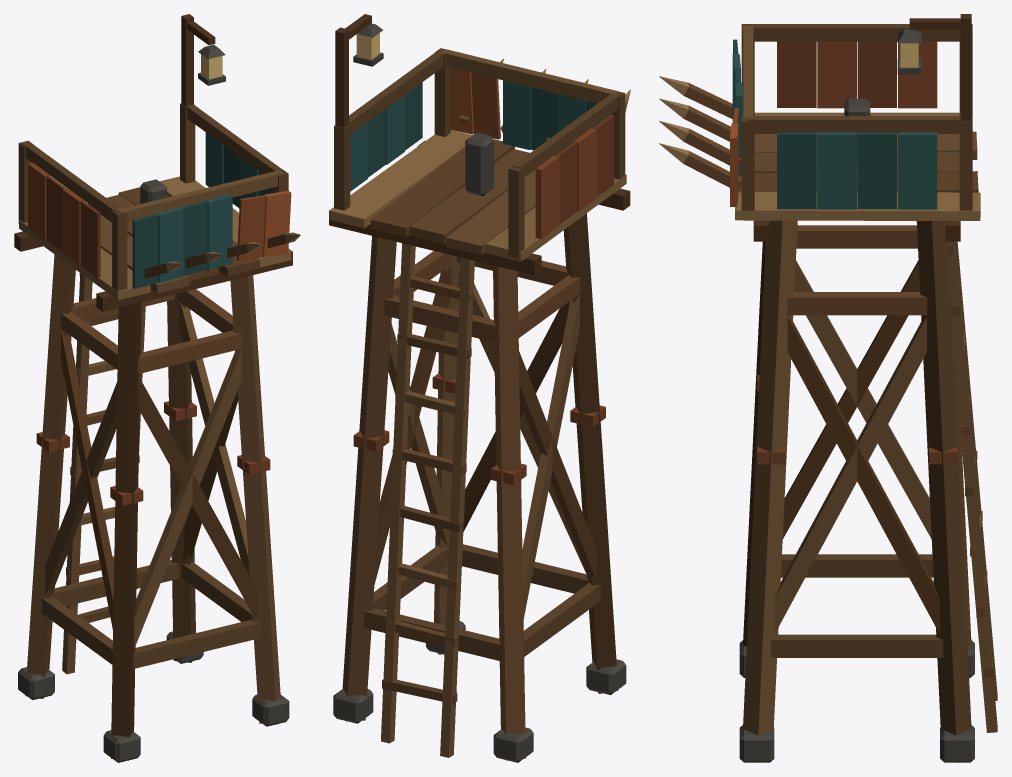
Rendered from torre_3.glb.
The picture shows the model from 3 angles, left to right: view 1: azimuth 30°, elevation 25°; view 2: azimuth 150°, elevation 25°; view 3: azimuth 270°, elevation 25°; orthographic projection. The views are drawn at different scales.
Parts seen in each view (by area): view 1: torre_3.001; view 2: torre_3.001; view 3: torre_3.001.
Part boxes in pixels (x1=…): torre_3.001: x1=14, y1=14, x2=300, y2=762; torre_3.001: x1=329, y1=14, x2=630, y2=762; torre_3.001: x1=659, y1=14, x2=997, y2=762.
Bounding box in the file's own units: 1.18 × 3.77 × 1.55.
